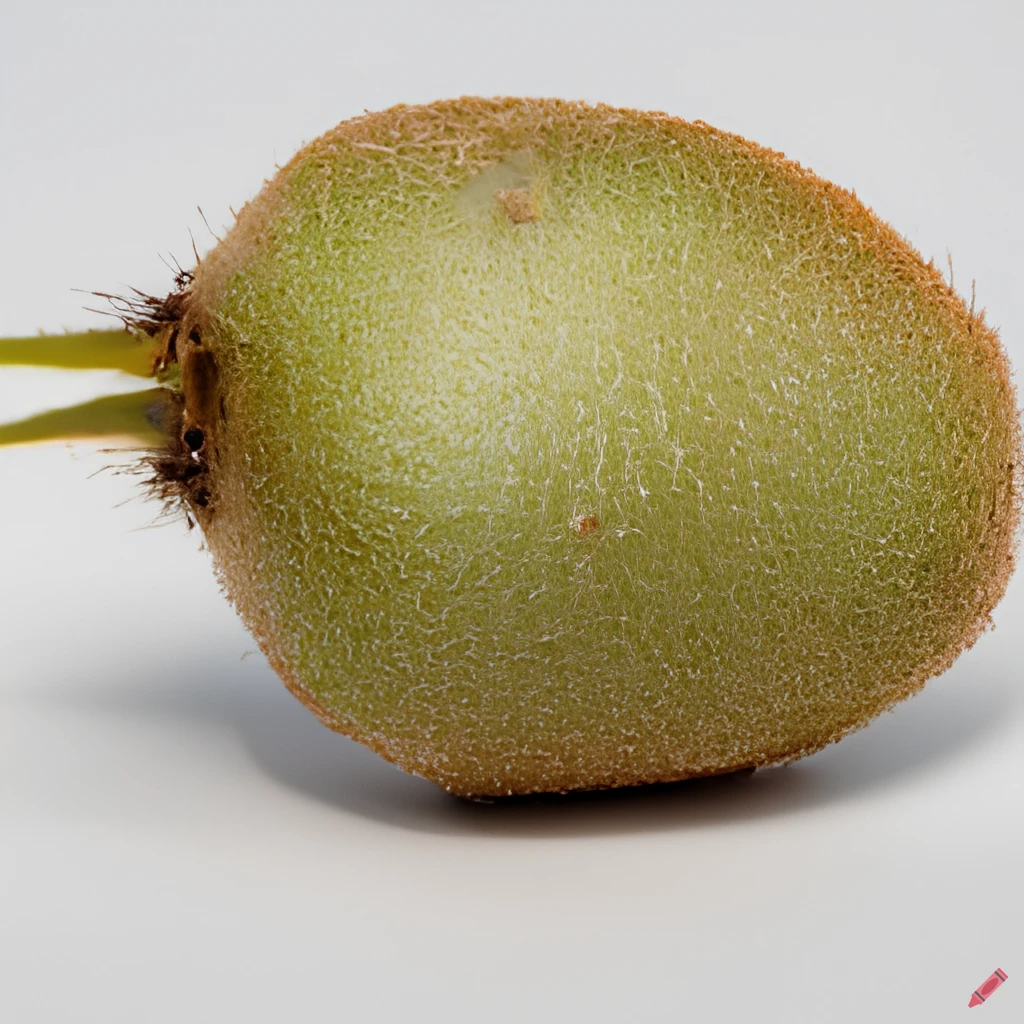Kiwi: (148, 90, 1020, 814)
